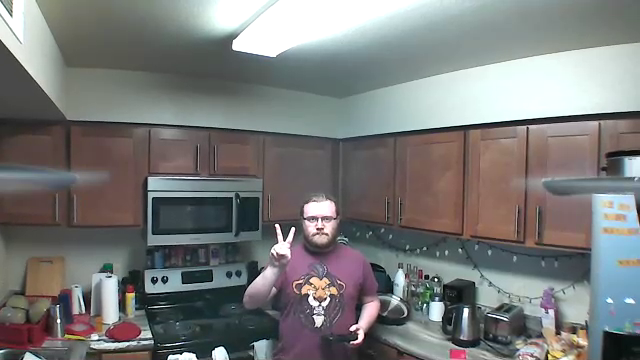peace: (263, 217, 298, 271)
